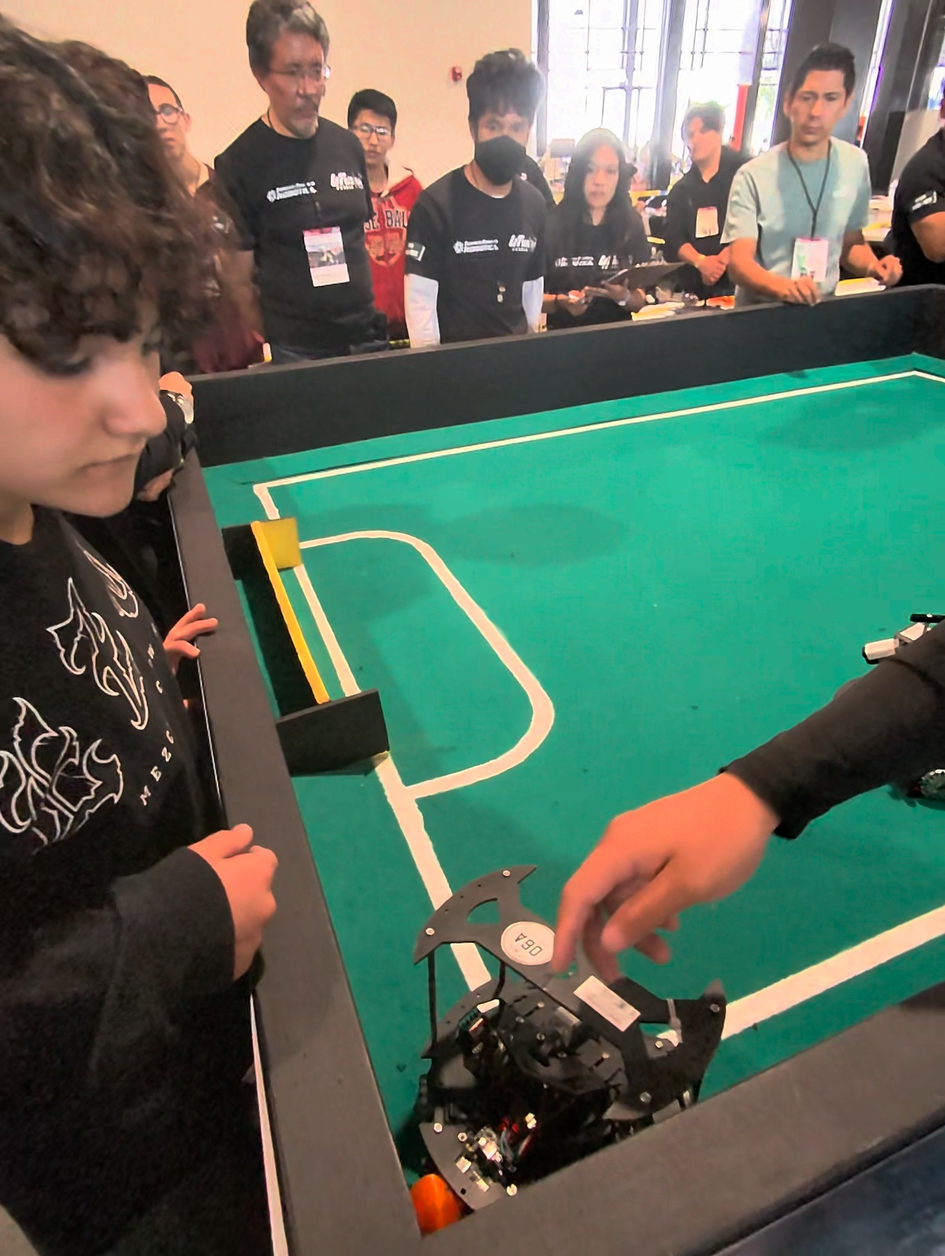Robot: (359, 838, 726, 1226)
pelota: (410, 1165, 454, 1226)
